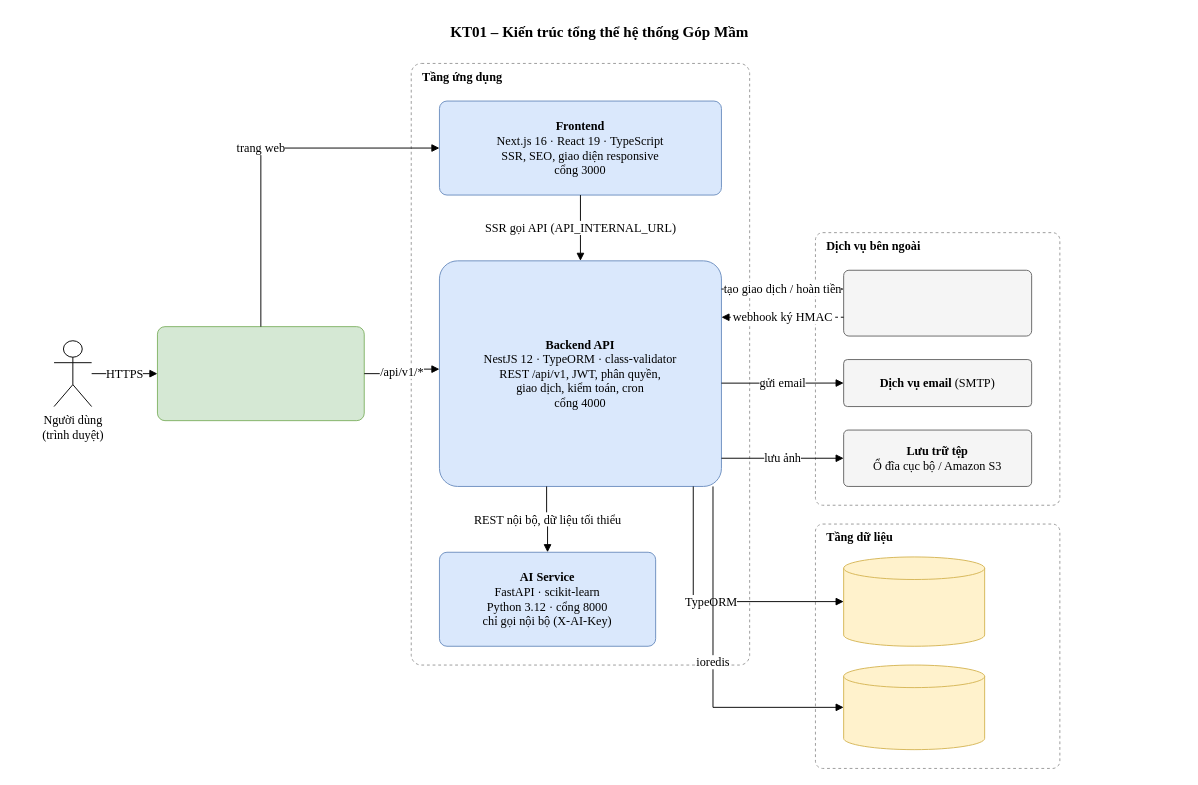
The diagram is 1198 pixels wide and 785 high, and some of its shapes have lost their labels. Here are the shapes that lost their labels. From the top down, the centre of each, then its label:
At pixel 937 302: "Cổng thanh toán (ví demo – sandbox)".
At pixel 260 373: "Nginx (Docker) / ALB (AWS) Reverse proxy, HTTPS / → frontend · /api/ → backend".
At pixel 914 601: "MySQL 8 dữ liệu nghiệp vụ (Amazon RDS)".
At pixel 914 707: "Redis 7 giới hạn tần suất".
